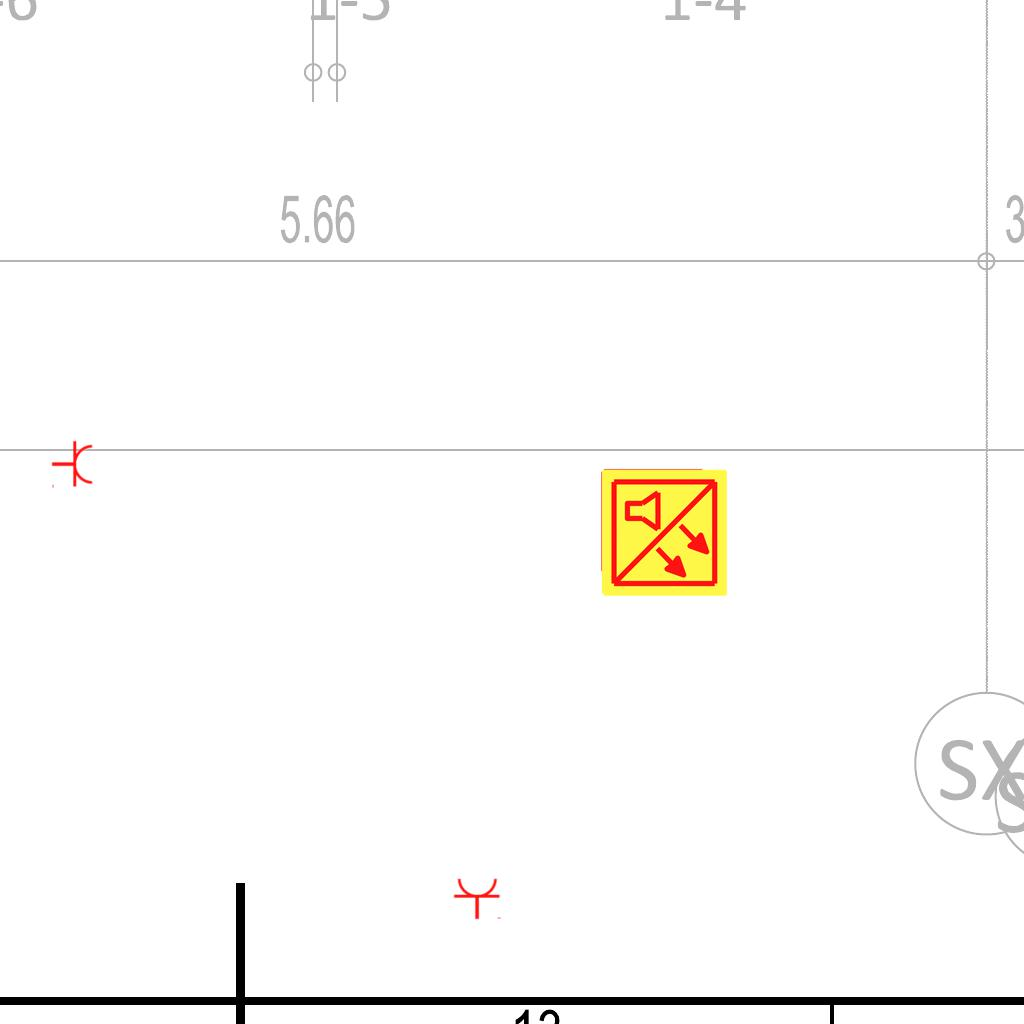OKW_Multisensormelder_(Kombination_optischer_Rauch-Kahlenmonoxid_Waerme-Melder): (598, 467, 730, 599)
Schukosteckdose_einfach: (51, 440, 94, 490), (453, 877, 503, 920)
